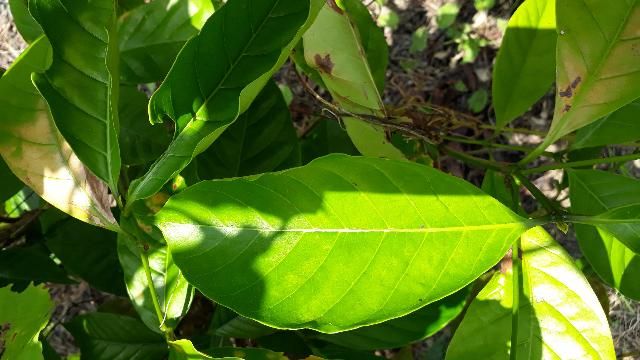healthy: (113, 31, 502, 205)
